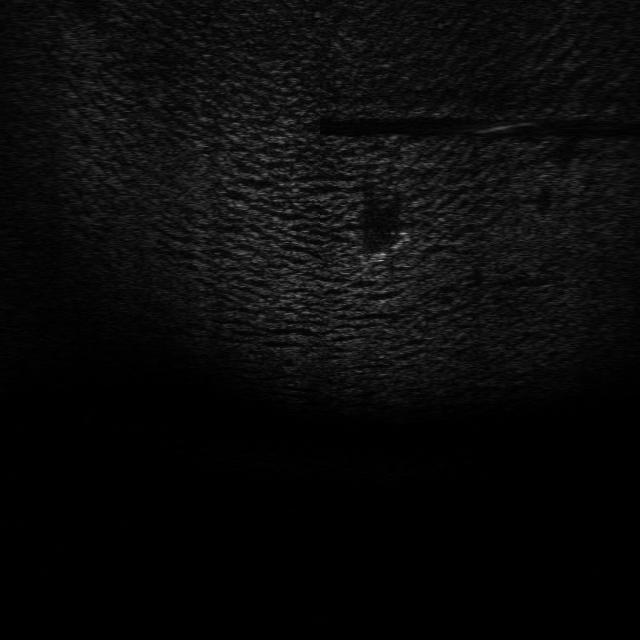plane: (356, 227, 413, 275)
